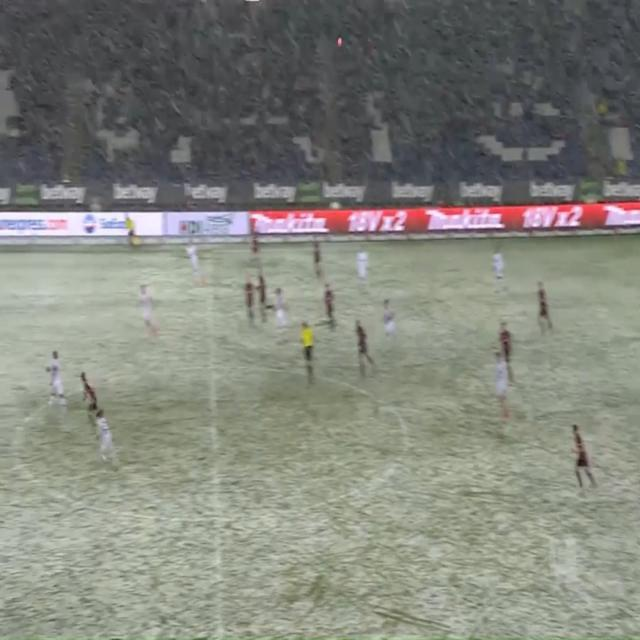ball: (336, 34, 345, 50)
player: (565, 412, 599, 499), (94, 399, 120, 485), (41, 344, 69, 423), (347, 315, 376, 385), (488, 346, 513, 423), (377, 291, 402, 365), (183, 235, 210, 303), (488, 236, 512, 309), (534, 274, 557, 347), (500, 319, 520, 396), (351, 244, 378, 298), (137, 272, 155, 345), (238, 268, 257, 331), (320, 280, 340, 337), (79, 371, 96, 432), (274, 283, 291, 344), (257, 272, 273, 333), (310, 228, 326, 286), (248, 224, 267, 272)
referee: (297, 320, 320, 402), (121, 212, 144, 263)
